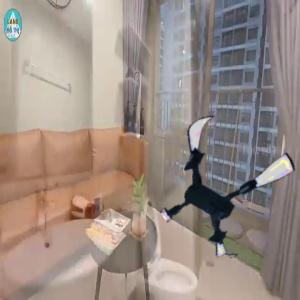drone: (156, 114, 296, 254)
